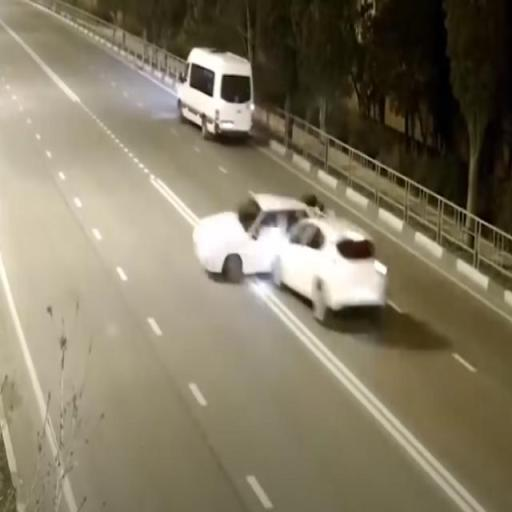小汽车: (174, 46, 252, 134)
小汽车撞小汽车: (188, 192, 392, 322)
